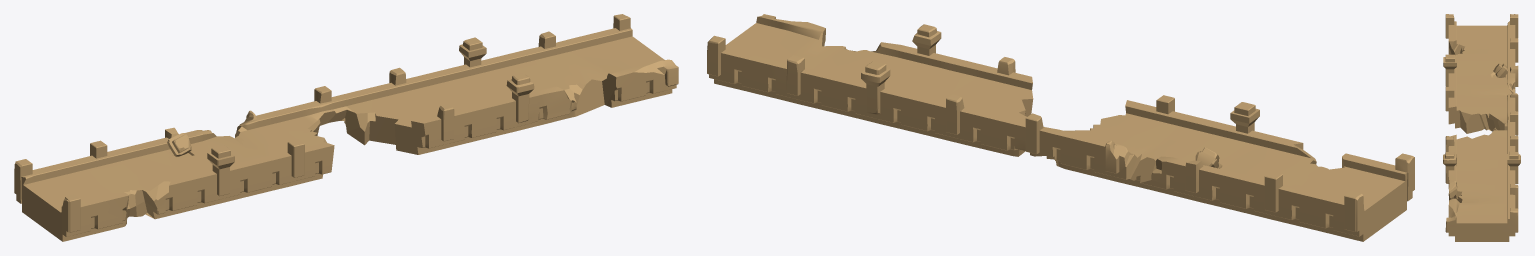
File: 2ndBridge_03.fbx
3 views of the same model, side by side, from view 1: azimuth 30°, elevation 25°; view 2: azimuth 150°, elevation 25°; view 3: azimuth 270°, elevation 25° (orthographic). The views are drawn at different scales.
Visible parts, largest first — view 1: Bridge.001; view 2: Bridge.001; view 3: Bridge.001.
Boxes of the visible parts, left/top/right/bottom form: Bridge.001: left=14, top=14, right=678, bottom=241; Bridge.001: left=707, top=14, right=1414, bottom=241; Bridge.001: left=1443, top=14, right=1520, bottom=241.
Bounding box in the file's own units: 6386 × 575 × 1063.
